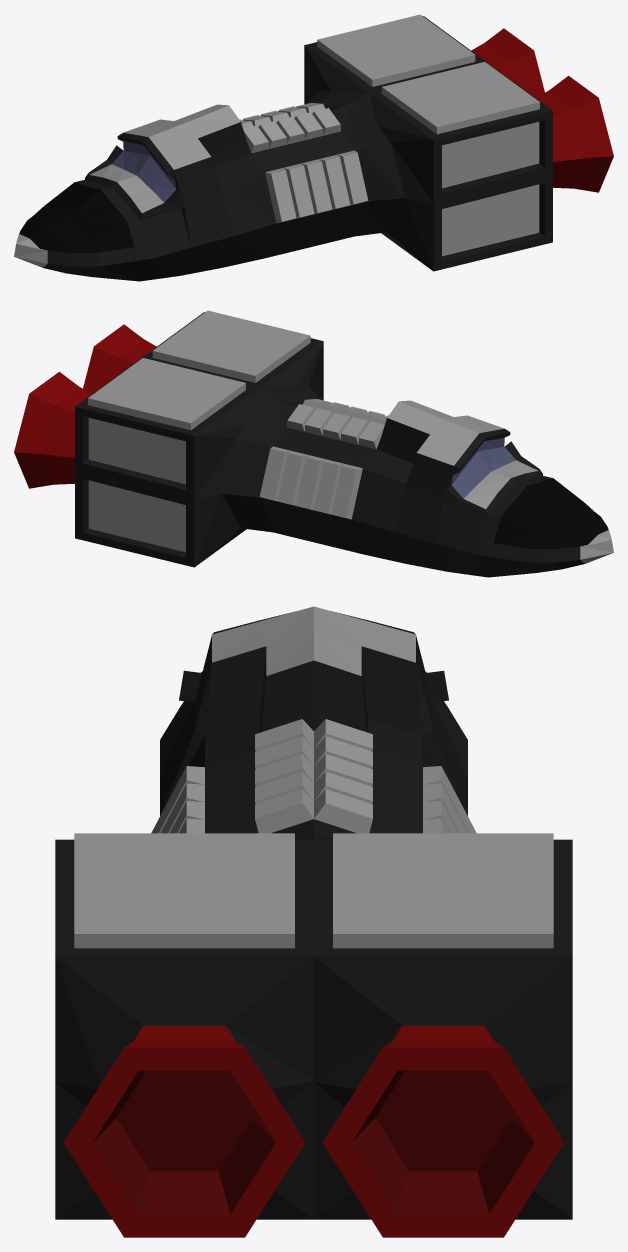
File: CargoShip1.FBX
3 renders of one model, top to bottom at view 1: azimuth 30°, elevation 25°; view 2: azimuth 150°, elevation 25°; view 3: azimuth 270°, elevation 25°, orthographic. The views are drawn at different scales.
Visible parts, largest first — view 1: Cylinder001; view 2: Cylinder001; view 3: Cylinder001.
Boxes of the visible parts, x1,y1,x2,y2 form: Cylinder001: (14,14,613,281); Cylinder001: (14,310,613,577); Cylinder001: (55,606,572,1237).
Size of the model in its own units: 519 by 141 by 216.
